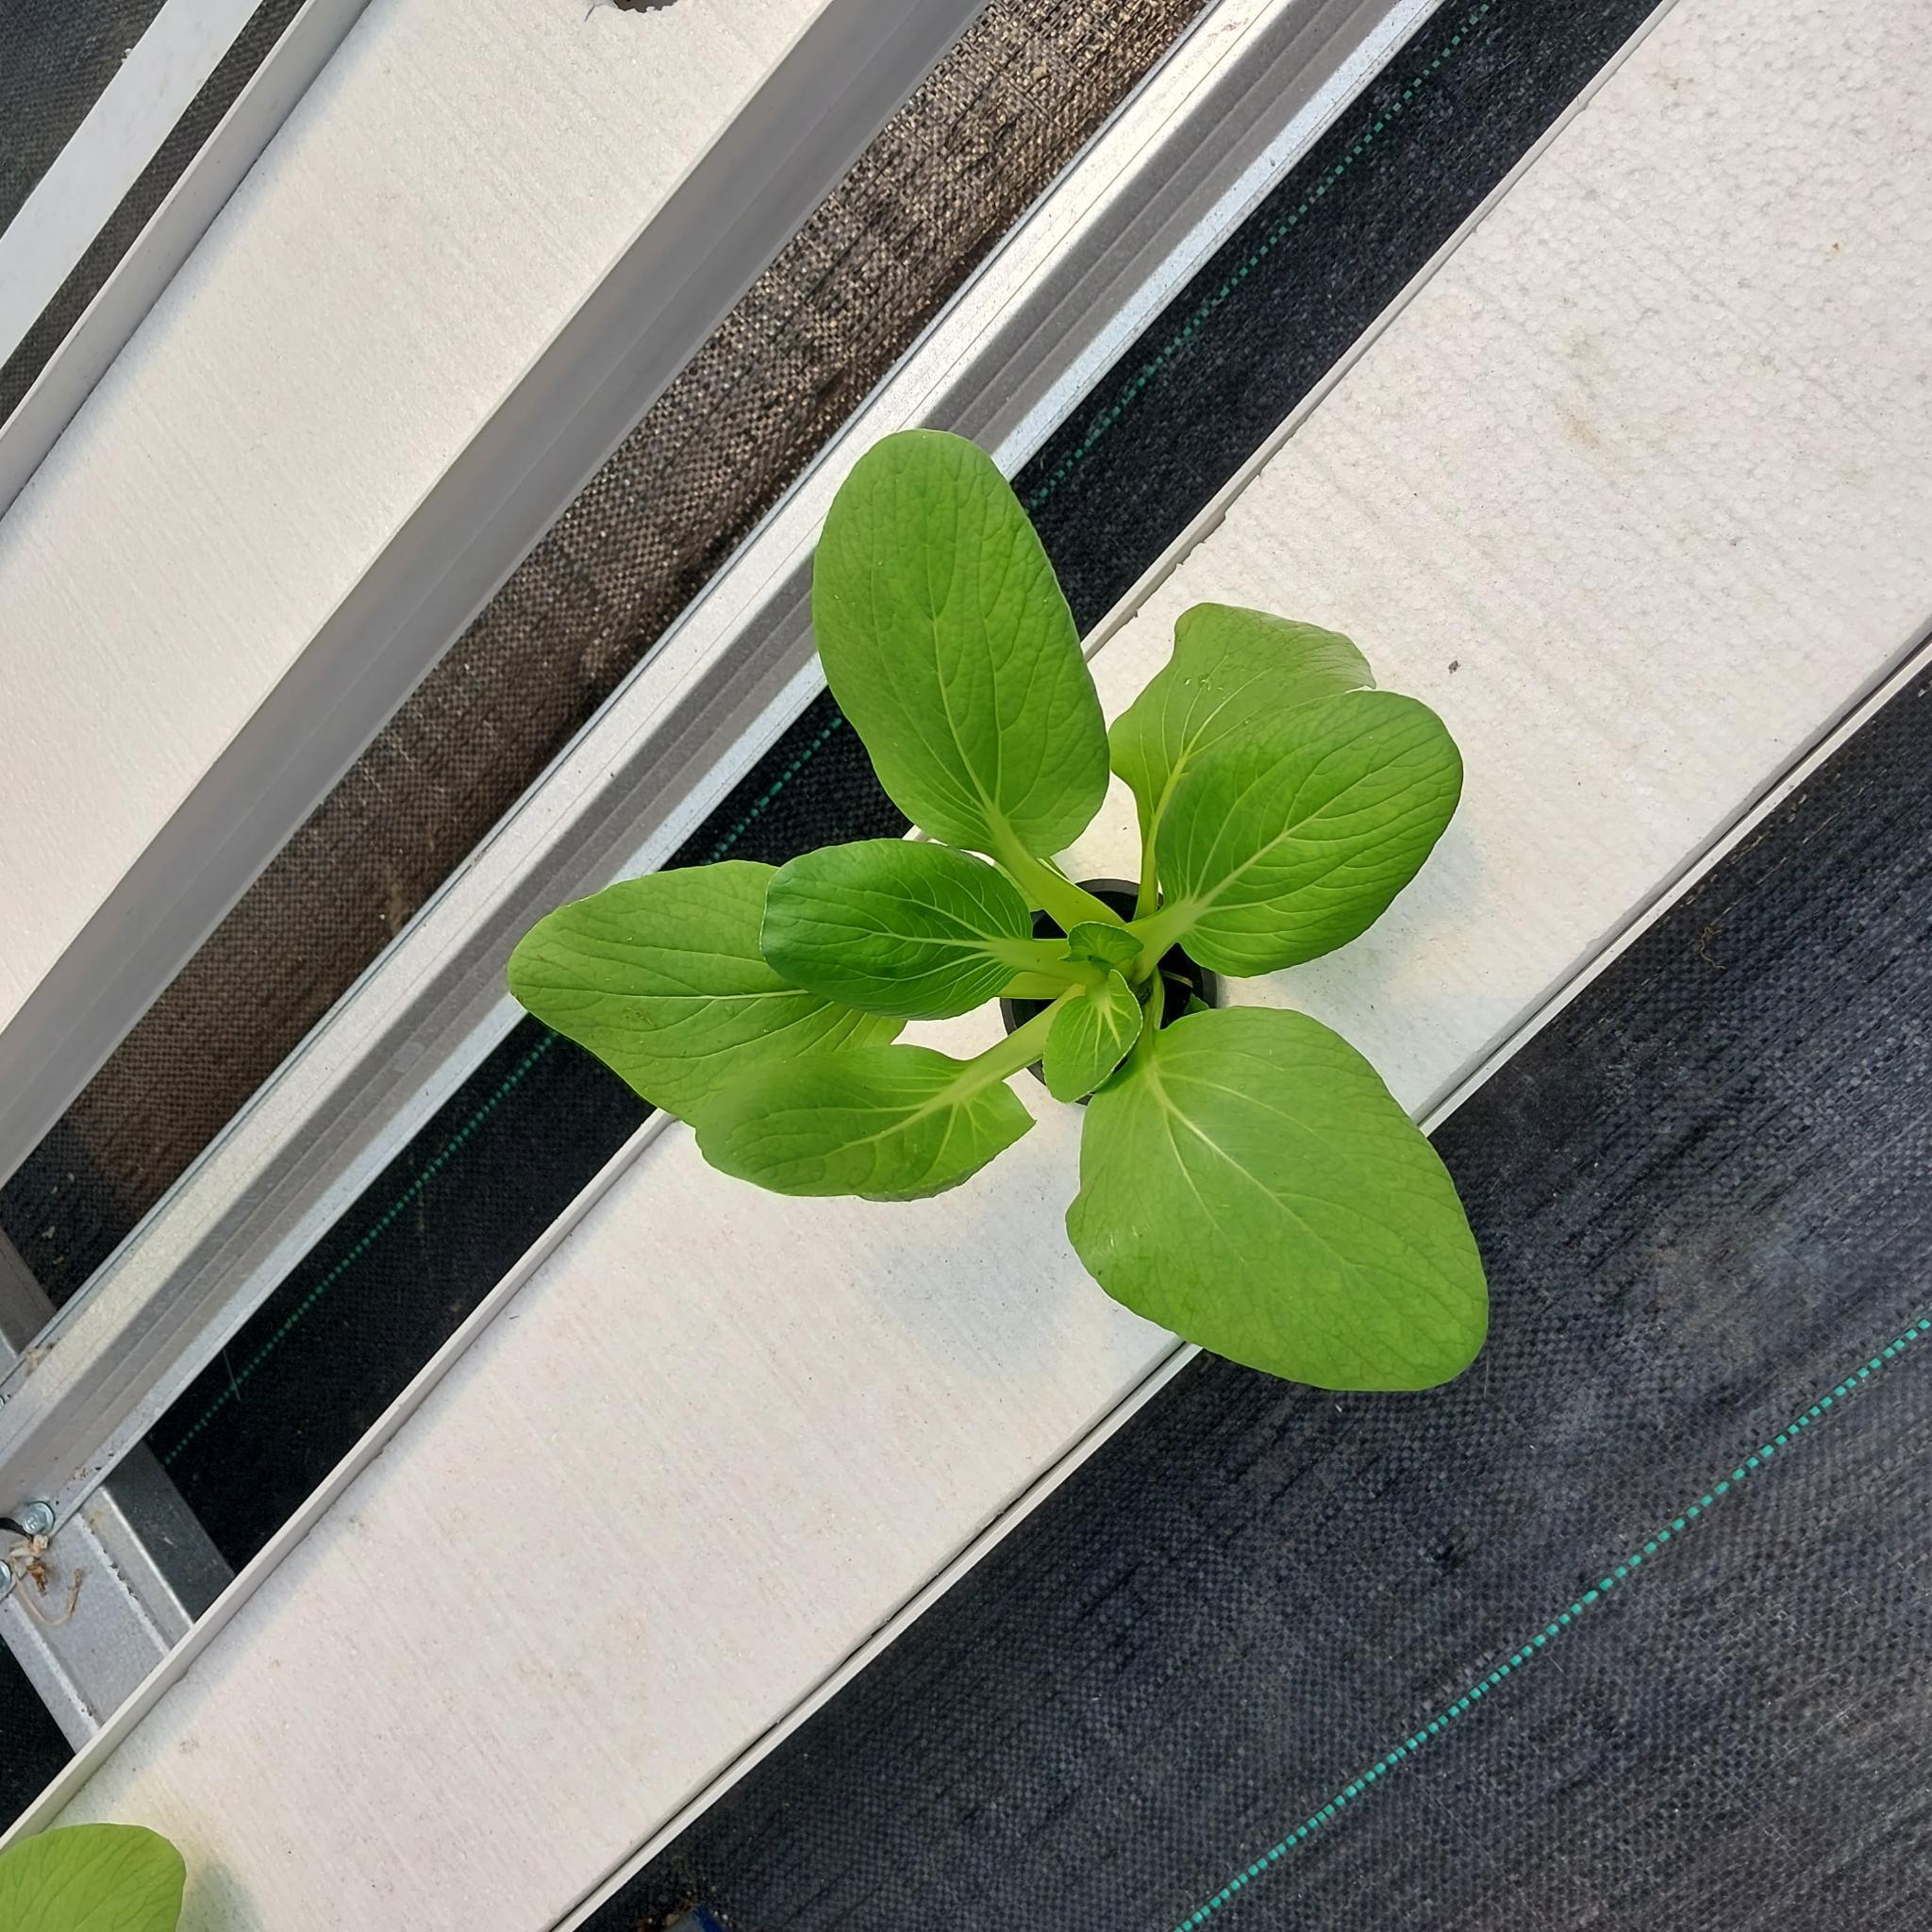Healthy-Pechay: (504, 865, 1040, 1203), (1088, 1008, 1490, 1396), (814, 425, 1100, 883), (1111, 619, 1465, 975), (1131, 1058, 1270, 1261), (1118, 694, 1226, 920)
